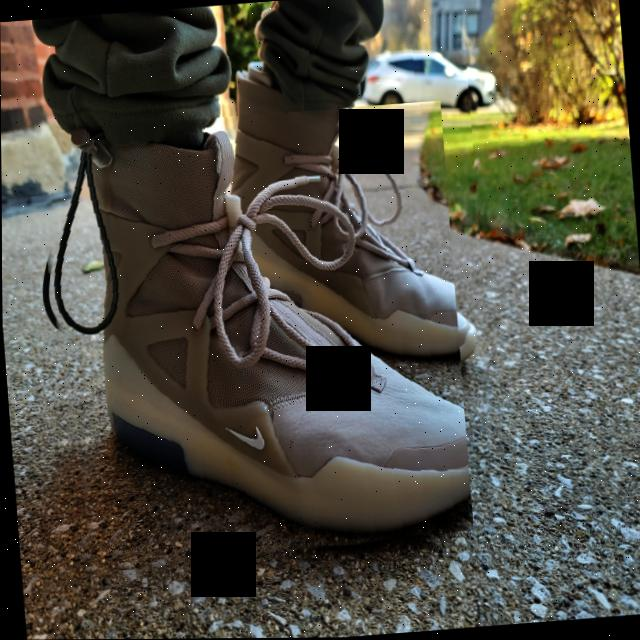shoe: (27, 100, 473, 576), (209, 41, 491, 409)
